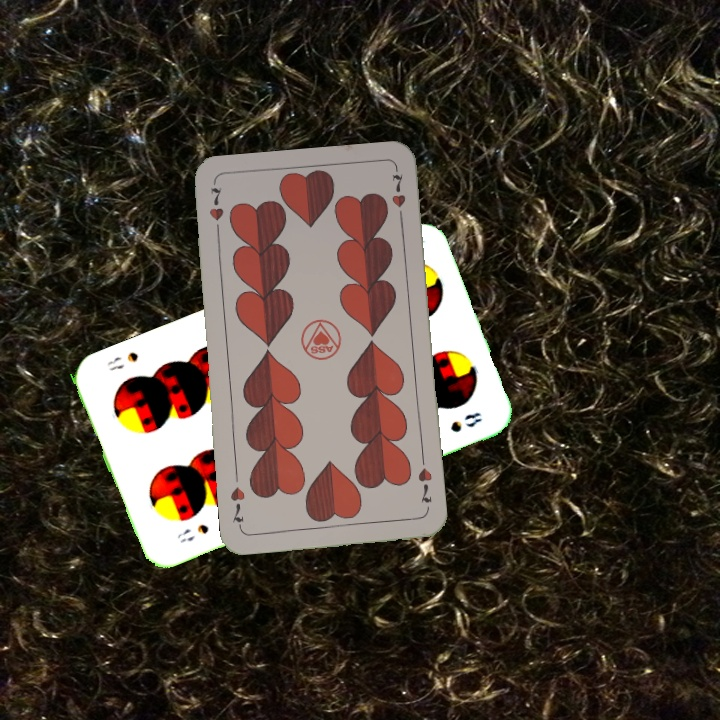H7: (205, 183, 226, 240), (414, 464, 435, 506)
S8: (173, 520, 212, 546)
